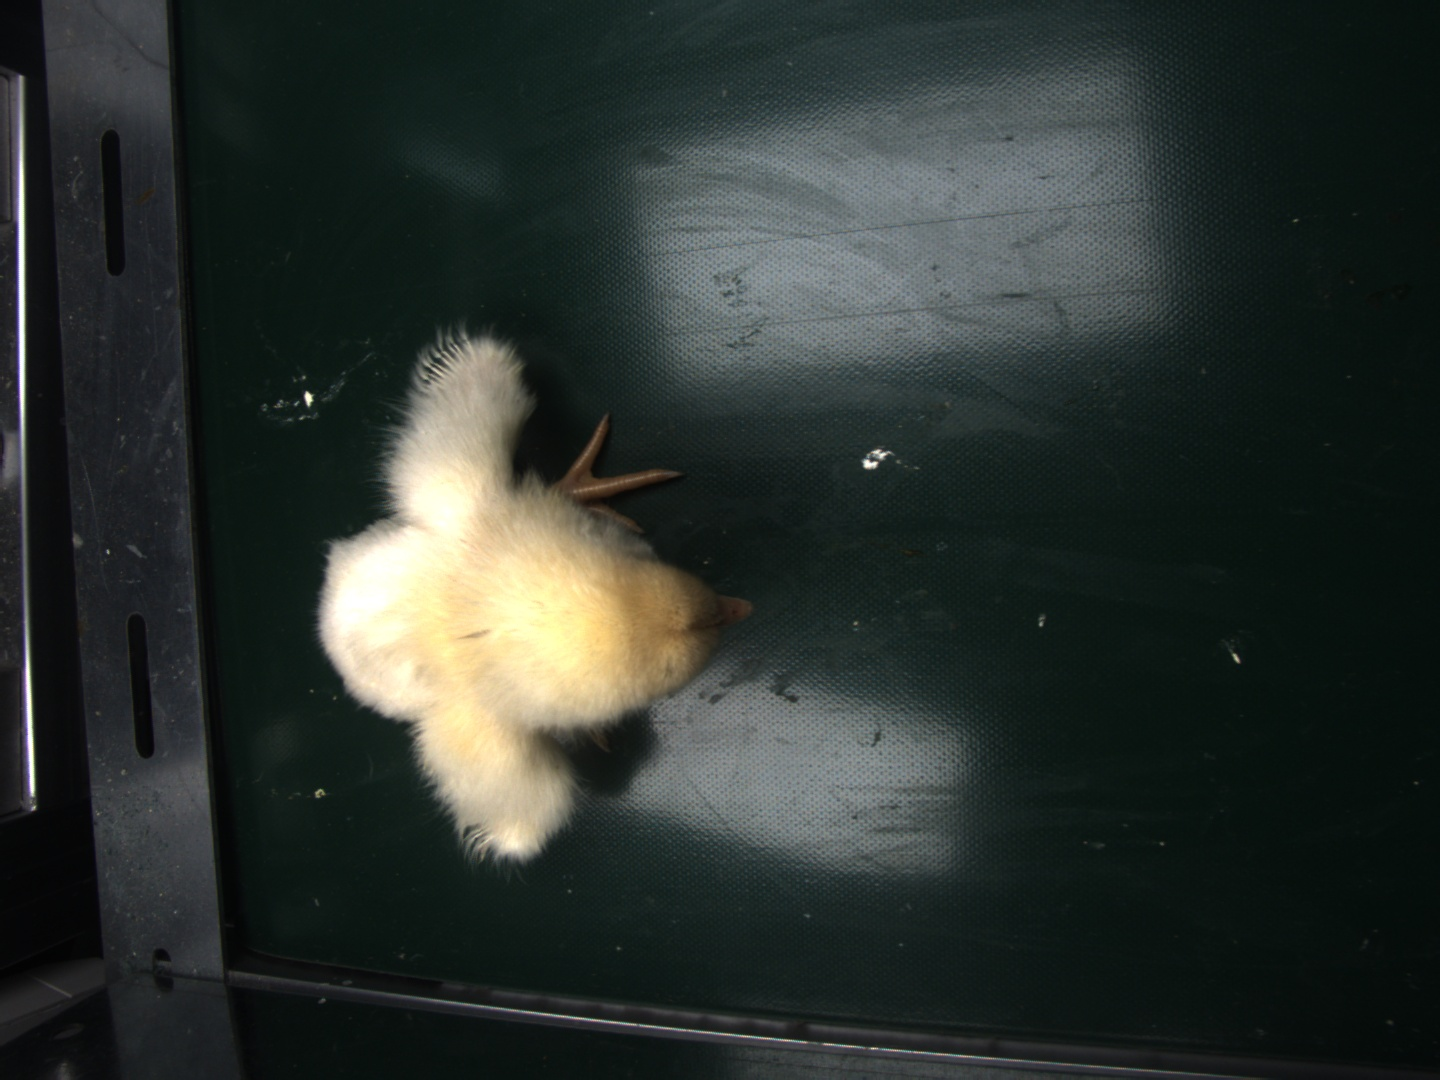male: (420, 336, 475, 393)
